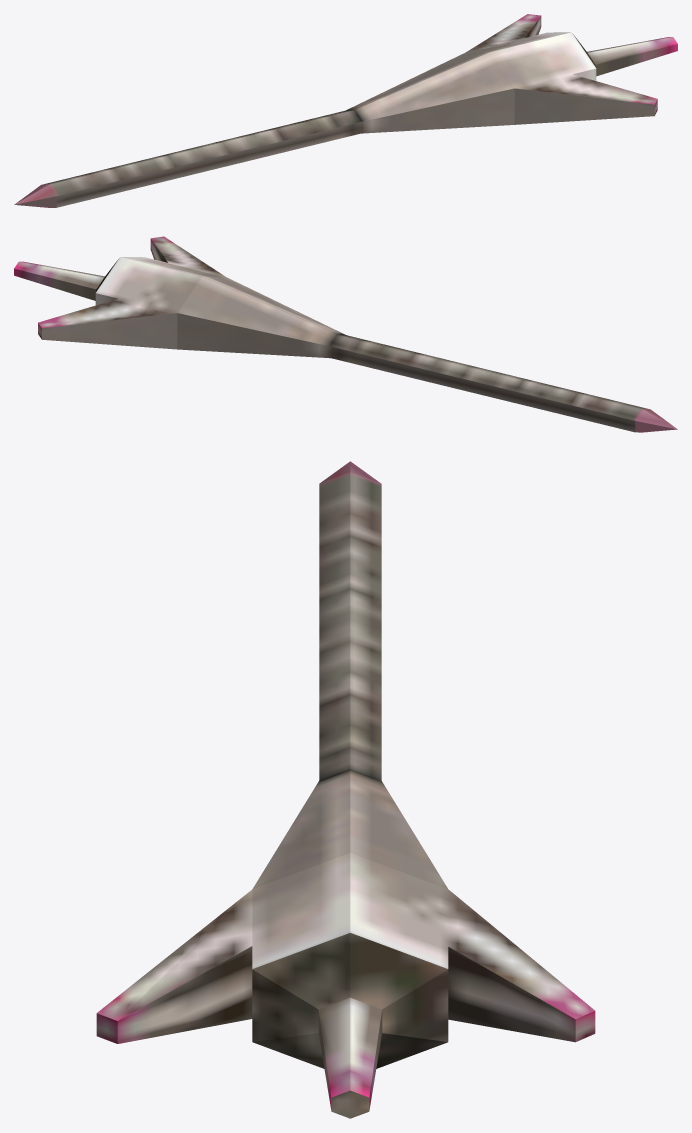
3 renders of one model, top to bottom at view 1: azimuth 30°, elevation 25°; view 2: azimuth 150°, elevation 25°; view 3: azimuth 270°, elevation 25°, orthographic. The views are drawn at different scales.
Parts seen in each view (by area): view 1: aw002; view 2: aw002; view 3: aw002.
Part boxes in pixels (left/top/right/bottom): aw002: left=14, top=14, right=677, bottom=207; aw002: left=14, top=236, right=677, bottom=432; aw002: left=96, top=461, right=595, bottom=1118.
Bounding box in the file's own units: 14.13 × 1.49 × 4.63.
1 material, 1 textured.
